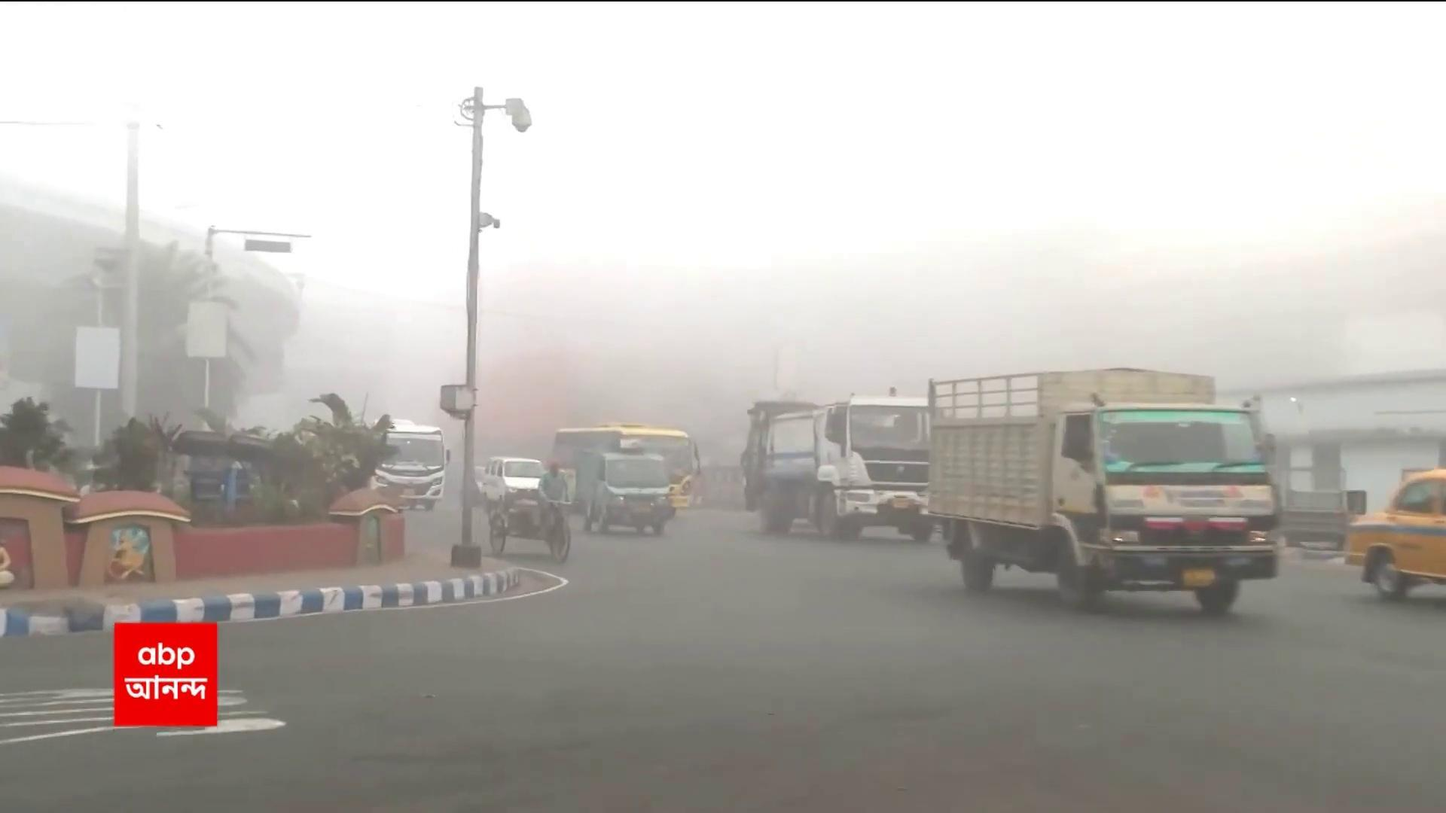Bus: (552, 419, 702, 507)
Truck: (923, 359, 1287, 614), (755, 379, 946, 541), (586, 456, 670, 532)
